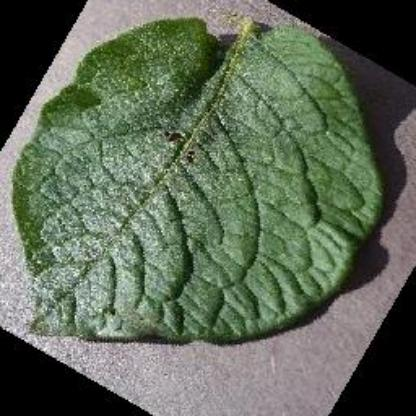Healthy-plant: (6, 9, 404, 360)
